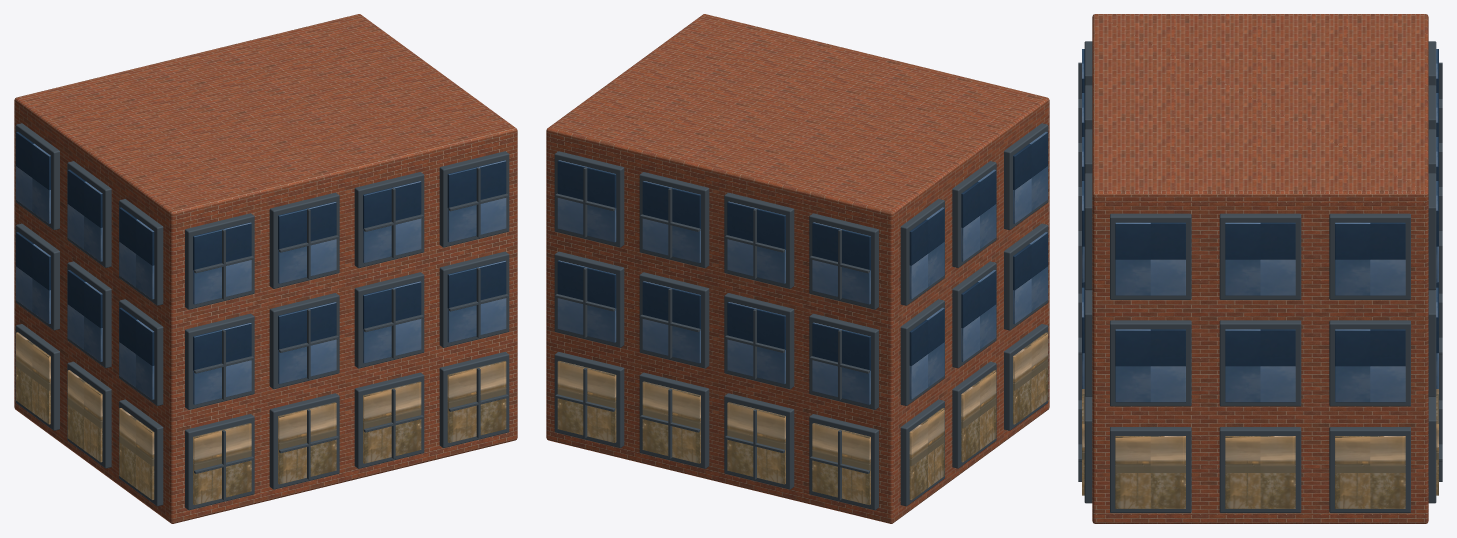
Rendered from body.glb.
The picture shows the model from 3 angles, left to right: view 1: azimuth 30°, elevation 25°; view 2: azimuth 150°, elevation 25°; view 3: azimuth 270°, elevation 25°; orthographic projection. The views are drawn at different scales.
Visible parts, largest first — view 1: body; view 2: body; view 3: body.
Boxes of the visible parts, box(x1,y1,x2,y2) form: body: box(14, 14, 517, 523); body: box(546, 14, 1049, 523); body: box(1078, 14, 1442, 523).
Size of the model in its own units: 3.99 by 3.27 by 3.26.
Materials: 4 (3 with a texture image).
